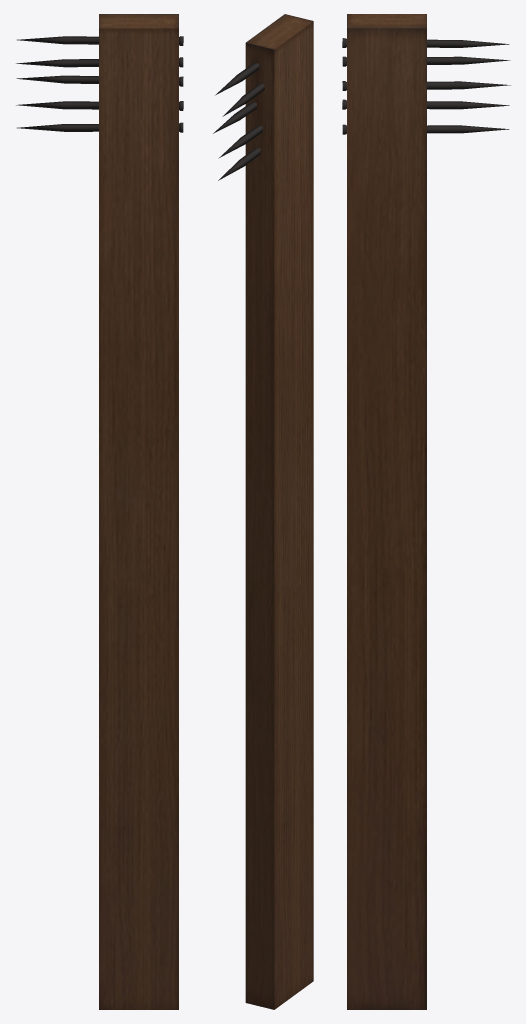
File: PlankNails.fbx
3 views of the same model, side by side, from view 1: azimuth 90°, elevation 25°; view 2: azimuth 150°, elevation 25°; view 3: azimuth 270°, elevation 25° (orthographic). The views are drawn at different scales.
Visible parts, largest first — view 1: Nail.002; view 2: Nail.002; view 3: Nail.002.
Boxes of the visible parts, x1,y1,x2,y2 form: Nail.002: [16, 14, 183, 1009]; Nail.002: [213, 14, 313, 1009]; Nail.002: [342, 14, 510, 1009].
Bounding box in the file's own units: 0.0237 × 0.7569 × 0.1183.
